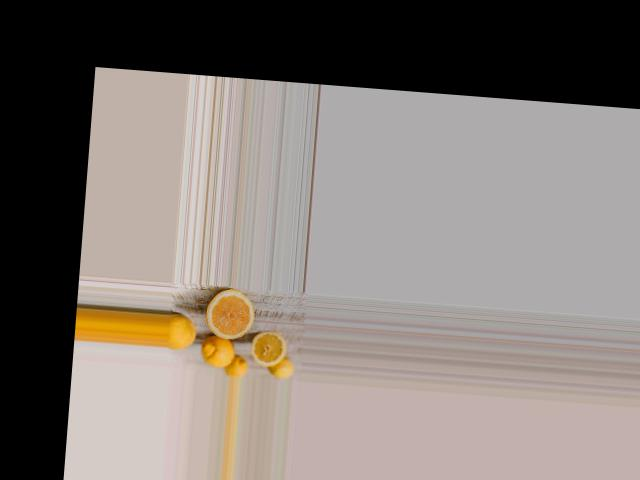lemon: (167, 310, 200, 352)
